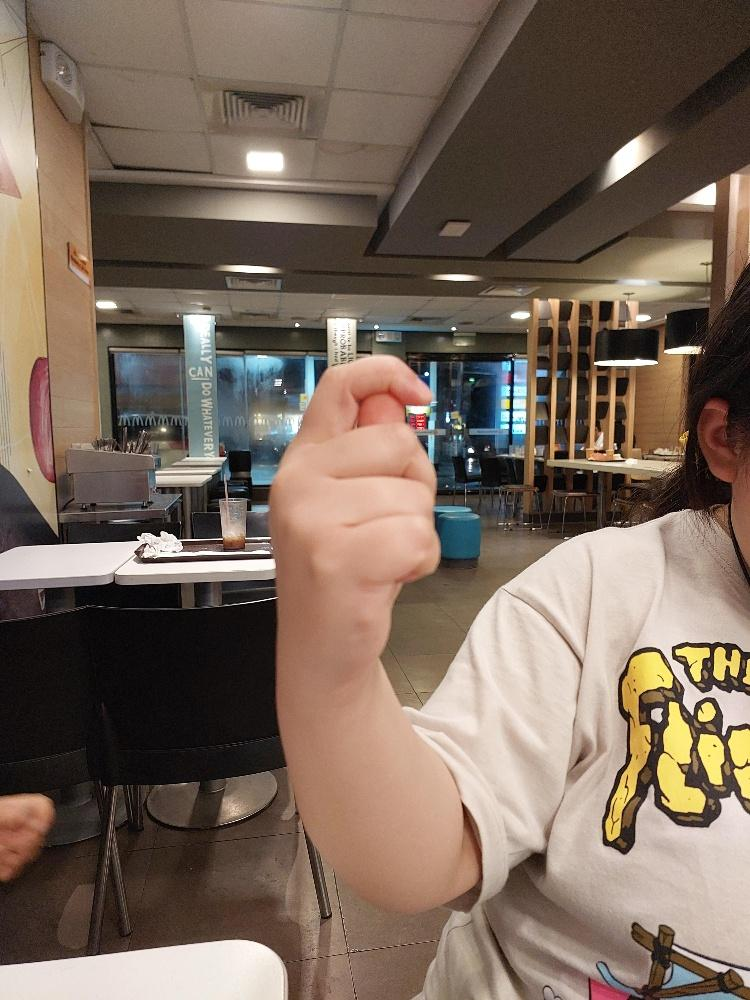t: (261, 351, 444, 690)
